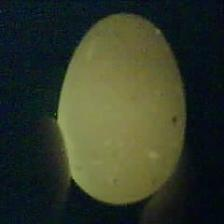infertile: (57, 9, 187, 202)
